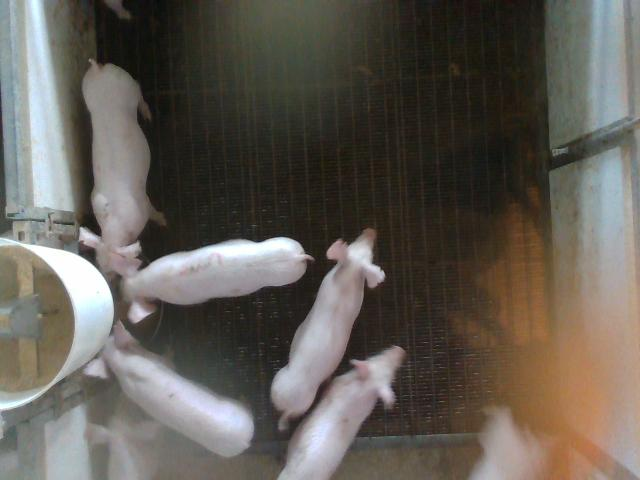pig-3: (109, 238, 312, 322)
